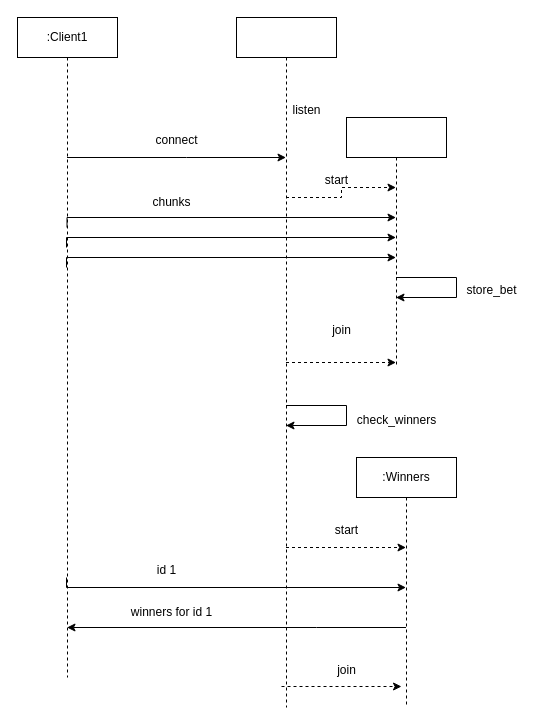
The diagram is 544 pixels wide and 725 high, and some of its shapes have lost their labels. Each missing label, with the box of its shape:
:ChunkHandler1: (346, 116, 446, 368)
:Server: (236, 16, 336, 708)
